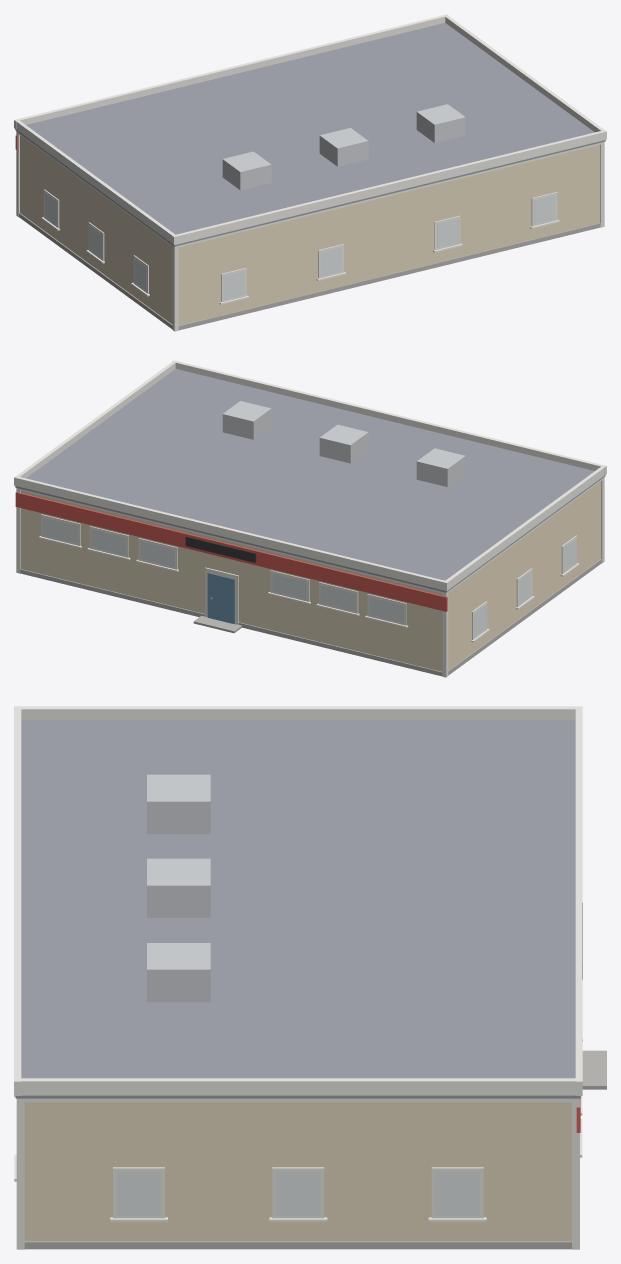
File: gym_a.glb
The picture shows the model from 3 angles, top to bottom: view 1: azimuth 30°, elevation 25°; view 2: azimuth 150°, elevation 25°; view 3: azimuth 270°, elevation 25°; orthographic projection. The views are drawn at different scales.
Parts seen in each view (by area): view 1: roof, body; view 2: roof, body; view 3: roof, body.
Part boxes in pixels (box(x1,y1,x2,y2)): roof: box(14, 14, 606, 246); body: box(15, 131, 604, 331); roof: box(14, 360, 606, 592); body: box(15, 477, 604, 677); roof: box(14, 706, 582, 1098); body: box(14, 903, 606, 1249).
Size of the model in its own units: 22.3 by 5.3 by 14.89.
